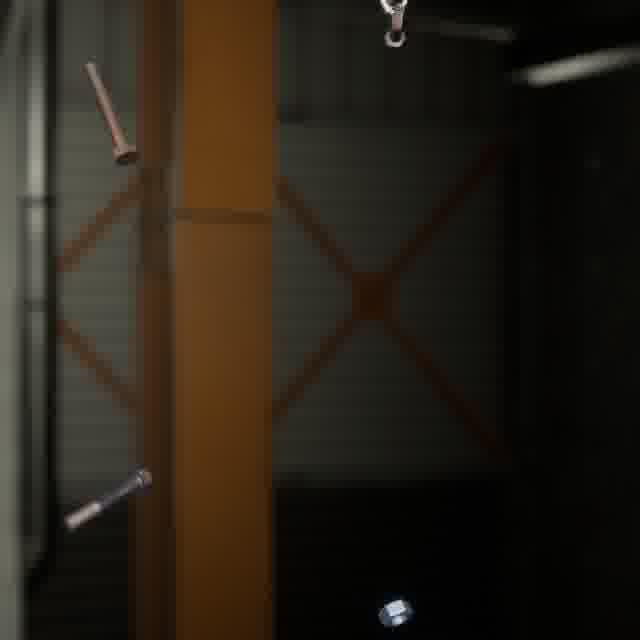bolt: (58, 460, 157, 535), (80, 57, 142, 170), (379, 0, 410, 54)
nut: (374, 595, 418, 632)
